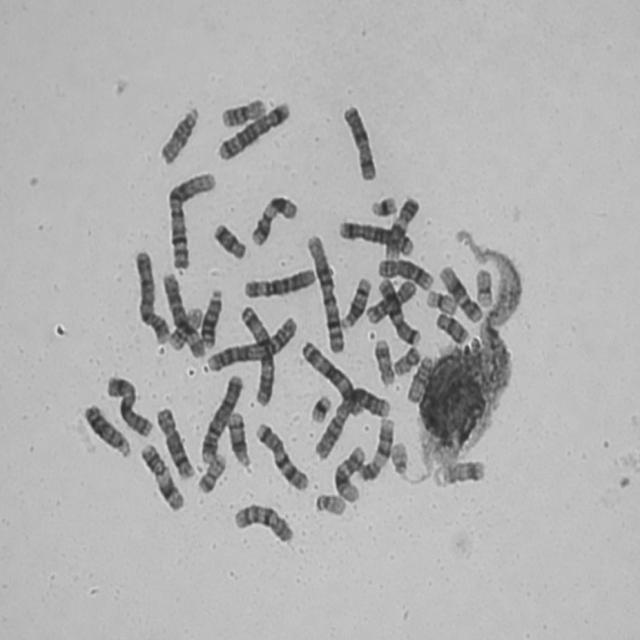A1: (164, 167, 218, 272), (302, 231, 346, 355)
A2: (311, 383, 392, 461), (203, 312, 299, 374)
A3: (298, 336, 364, 418), (237, 302, 275, 408)
B4: (197, 370, 245, 466), (131, 246, 171, 346)
B5: (214, 98, 292, 163), (335, 217, 415, 258)
C10: (230, 499, 296, 546), (363, 276, 417, 326)
C11: (136, 440, 186, 513), (248, 191, 299, 248)
C12: (436, 262, 484, 324), (331, 442, 366, 504)
C6: (159, 268, 206, 360), (240, 264, 316, 301)
C7: (252, 419, 310, 493), (375, 275, 422, 347)
C8: (152, 403, 196, 481), (374, 255, 434, 292)
C9: (354, 414, 396, 483), (382, 194, 421, 260)
D13: (79, 400, 132, 460), (198, 285, 225, 350)
D14: (339, 274, 373, 331), (224, 408, 253, 471)
D15: (156, 103, 200, 166), (404, 352, 435, 404)
E16: (165, 302, 205, 351), (217, 94, 268, 130)
E17: (430, 456, 488, 490), (372, 336, 396, 388)
E18: (210, 219, 248, 261), (433, 309, 471, 345)
F19: (422, 286, 458, 316), (472, 265, 494, 309)
F20: (195, 450, 228, 496), (390, 342, 422, 378)
G21: (307, 391, 333, 425), (368, 193, 398, 218)
G22: (387, 437, 411, 480), (312, 490, 347, 518)
X: (102, 371, 154, 439), (339, 101, 378, 182)
